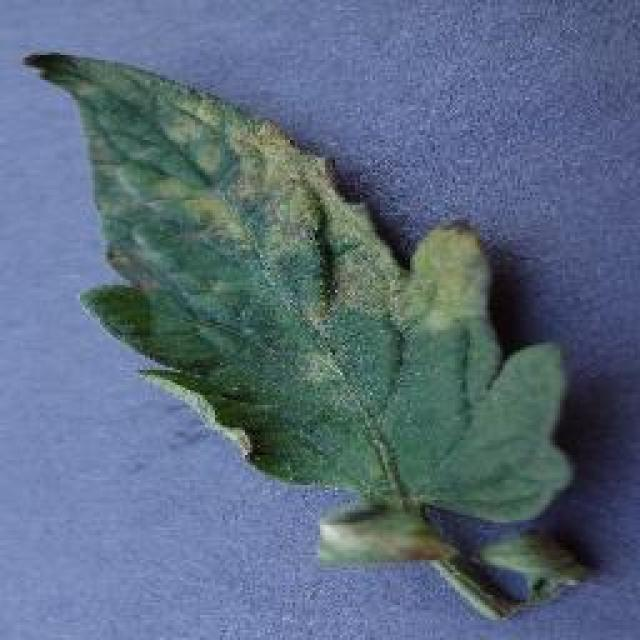Tom_Leaf_Mold: (190, 121, 481, 338)
